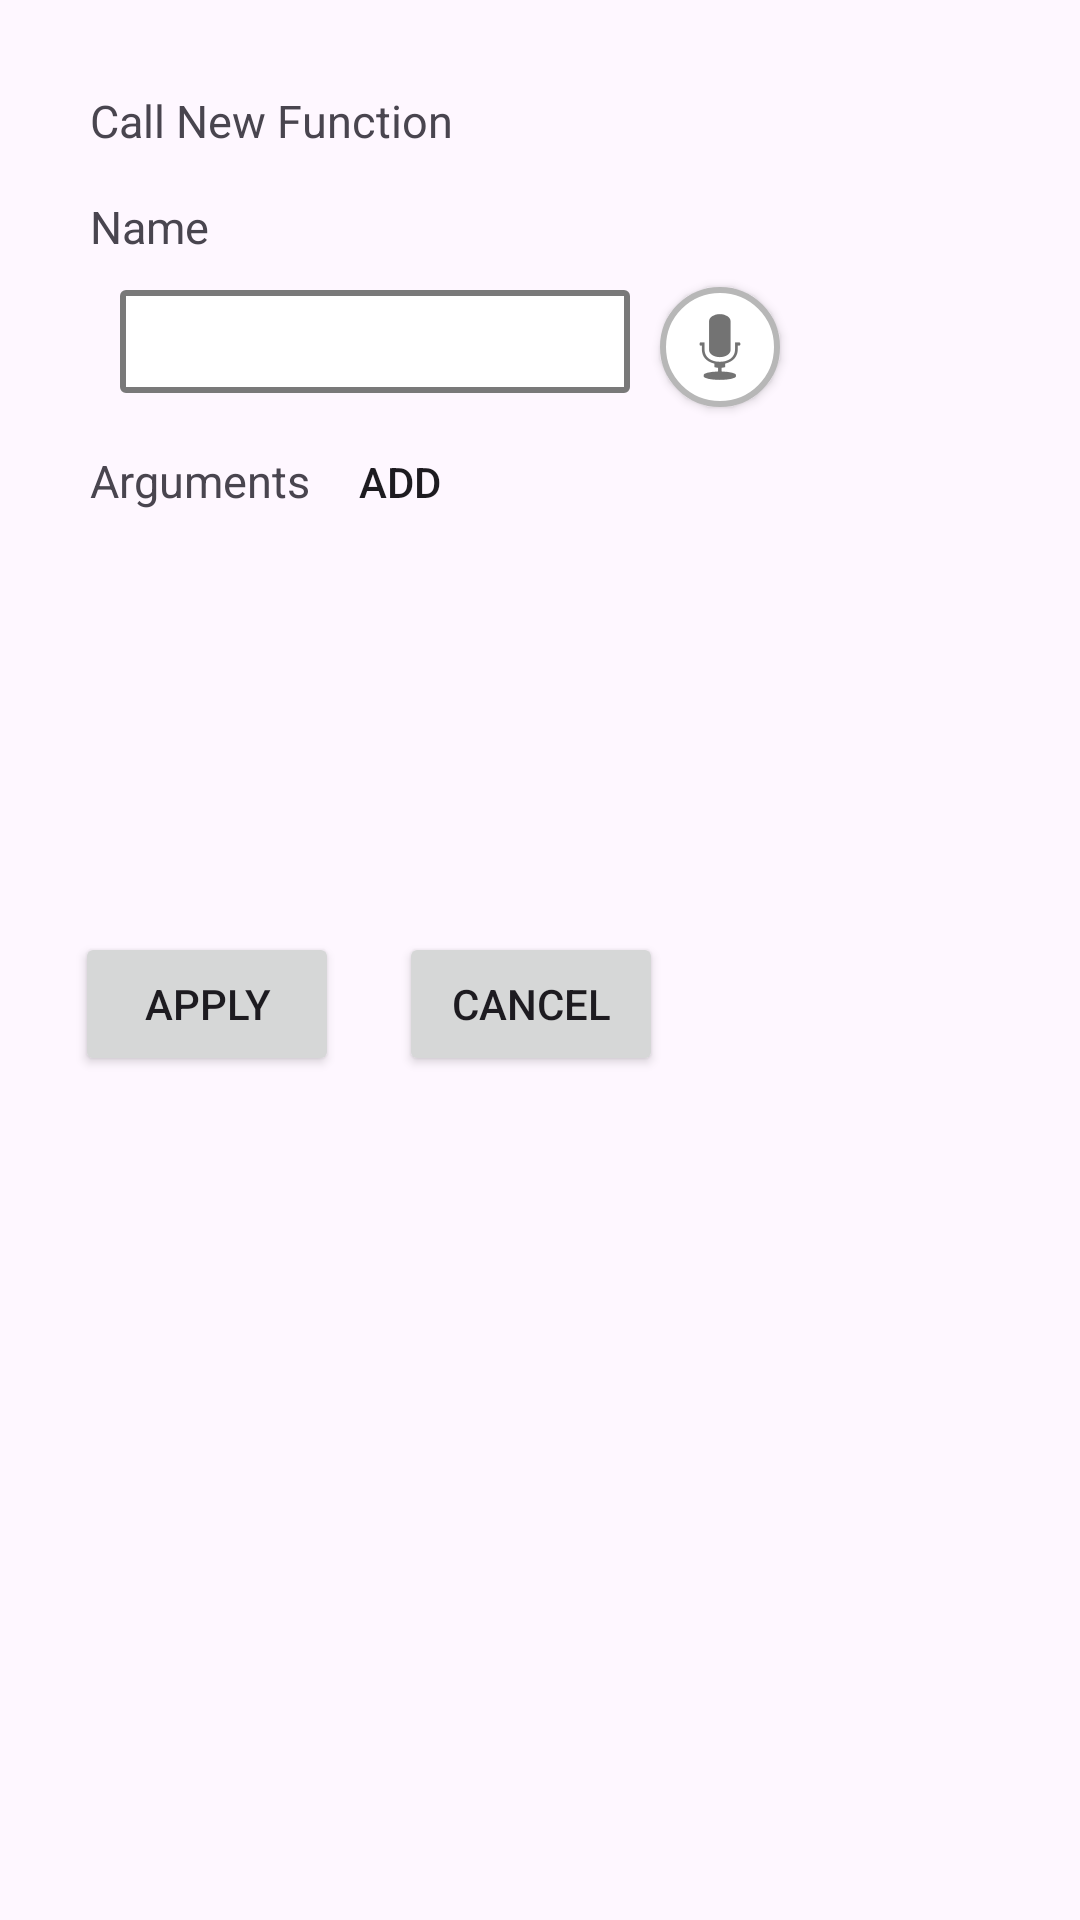

Icon bounding boxes for this 1080×1920 phone screenshot, format (x1, y1, x2, y2):
microphone: (660, 287, 780, 407)
